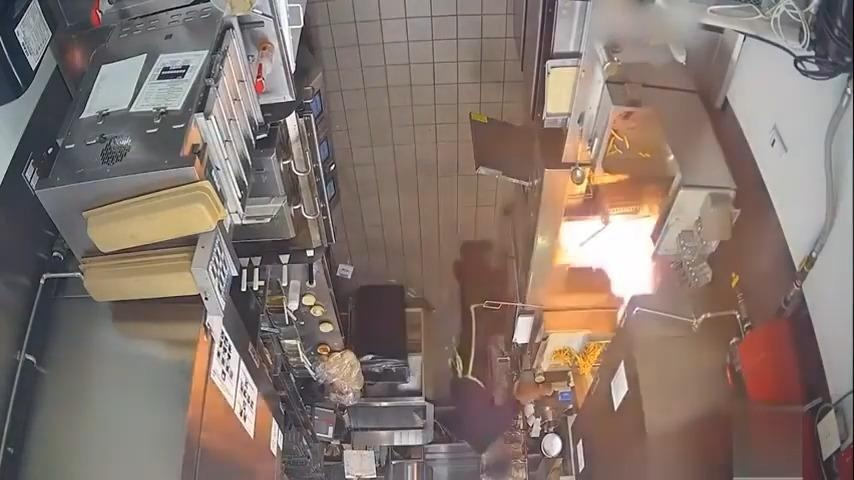fire: (555, 192, 670, 322)
